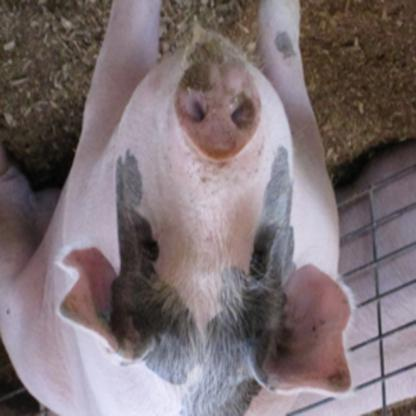boar: (0, 2, 359, 416)
